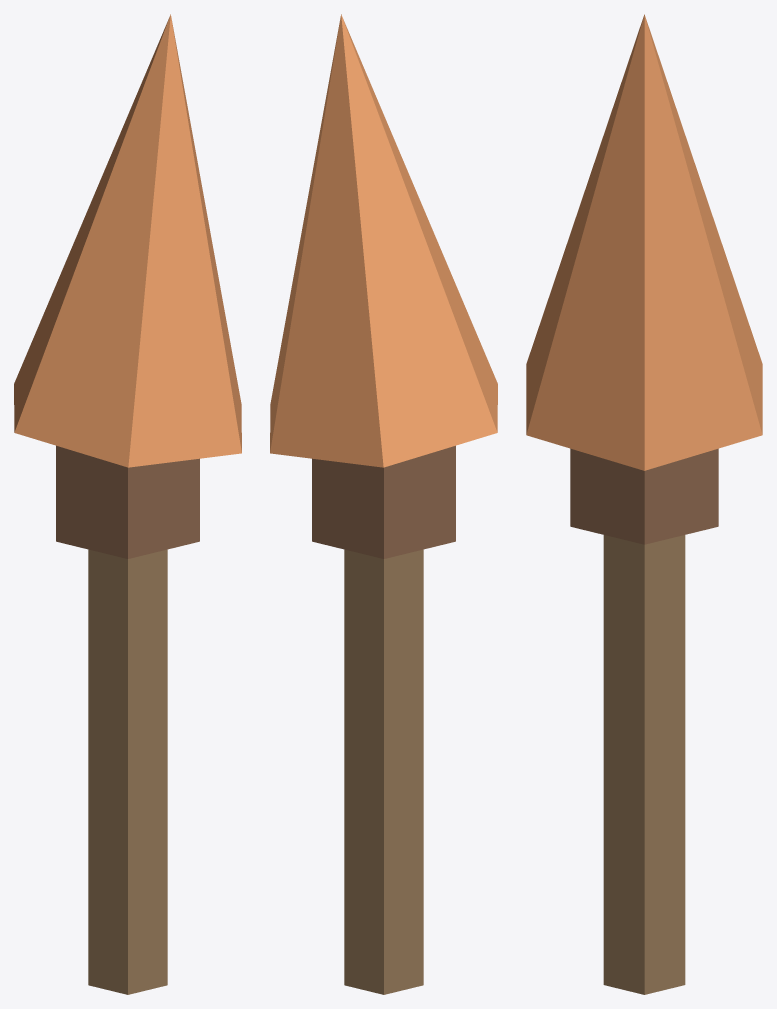
File: animprop_torch_01.glb
3 renders of one model, left to right at view 1: azimuth 30°, elevation 25°; view 2: azimuth 150°, elevation 25°; view 3: azimuth 270°, elevation 25°, orthographic. The views are drawn at different scales.
Visible parts, largest first — view 1: animprop; view 2: animprop; view 3: animprop.
Boxes of the visible parts, box(x1,y1,x2,y2) form: animprop: box(14, 14, 241, 994); animprop: box(270, 14, 497, 994); animprop: box(526, 14, 762, 994).
Bounding box in the file's own units: 0.316 × 1.26 × 0.2754.
